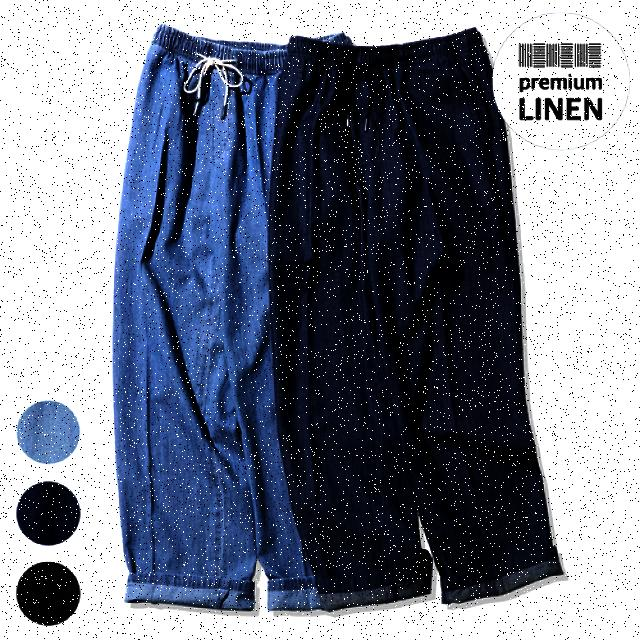Blouse_deep: (258, 27, 577, 595)
